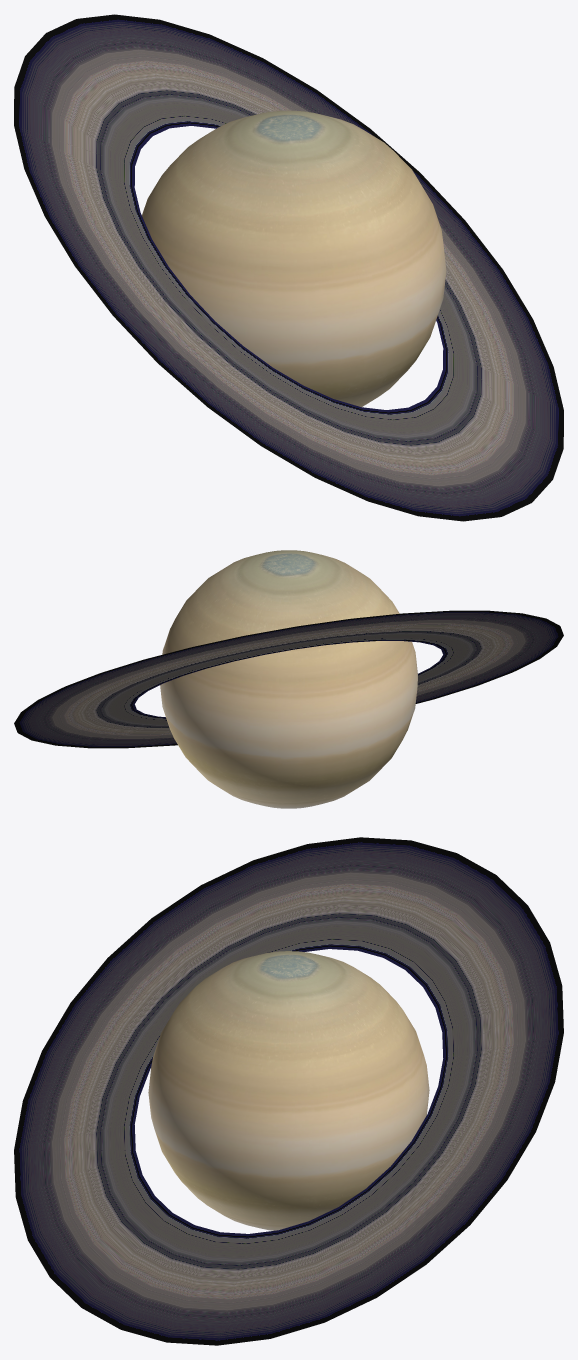
Rendered from saturno.glb.
3 renders of one model, top to bottom at view 1: azimuth 30°, elevation 25°; view 2: azimuth 150°, elevation 25°; view 3: azimuth 270°, elevation 25°, orthographic. The views are drawn at different scales.
Parts seen in each view (by area): view 1: saturno.003, saturno.001; view 2: saturno.001, saturno.003; view 3: saturno.003, saturno.001.
Boxes of the visible parts, left/top/right/bottom form: saturno.003: left=14, top=14, right=563, bottom=521; saturno.001: left=142, top=110, right=446, bottom=407; saturno.001: left=160, top=550, right=417, bottom=808; saturno.003: left=14, top=610, right=563, bottom=748; saturno.003: left=14, top=837, right=563, bottom=1345; saturno.001: left=148, top=951, right=429, bottom=1230.
Size of the model in its own units: 0.9451 by 0.6302 by 0.9551.
Materials: 2 (2 with a texture image).
